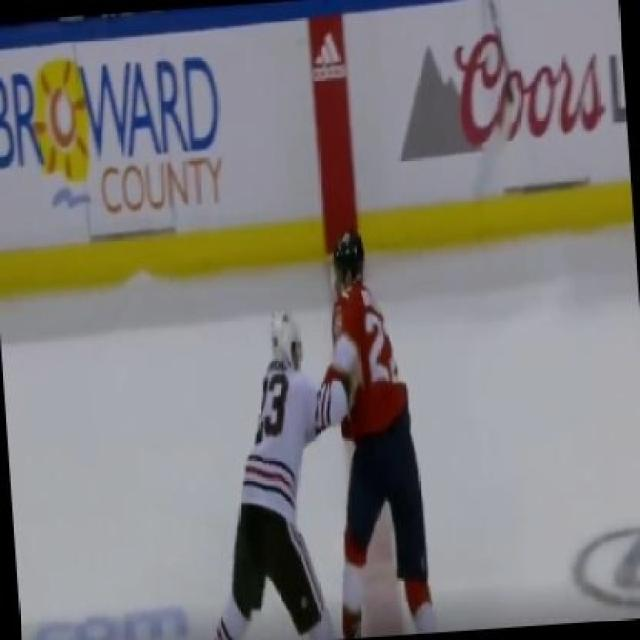fight: (209, 228, 454, 637)
